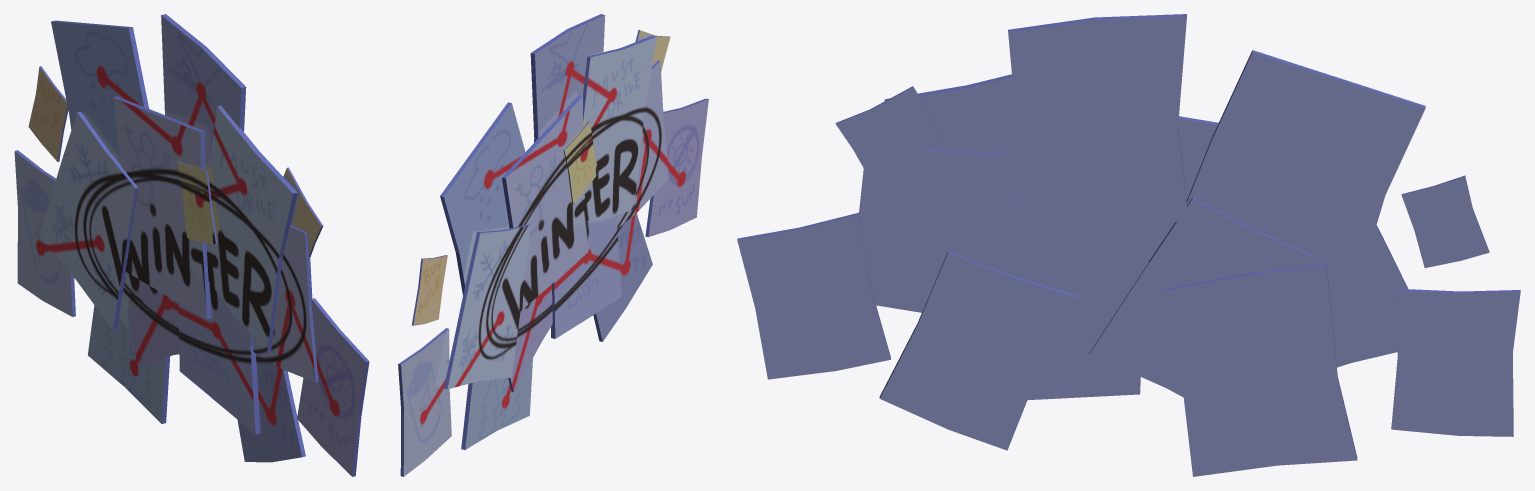
Rendered from cutscene_paper.fbx.
3 views of the same model, side by side, from view 1: azimuth 30°, elevation 25°; view 2: azimuth 150°, elevation 25°; view 3: azimuth 270°, elevation 25° (orthographic). The views are drawn at different scales.
Parts seen in each view (by area): view 1: Plane.003, Plane.001, Plane.006, Plane, Plane.011, Plane.008, Plane.002, Plane.010, Plane.004, Plane.009, Plane.005, Plane.007 (+3 smaller); view 2: Plane.001, Plane.003, Plane.006, Plane, Plane.010, Plane.008, Plane.011, Plane.002, Plane.009, Plane.004, Plane.005, Plane.007 (+3 smaller); view 3: Plane.002, Plane, Plane.009, Plane.005, Plane.011, Plane.004, Plane.008, Plane.010, Plane.007, Plane.003, Plane.006, Plane.014 (+2 smaller).
Boxes of the visible parts, bbox=[...] form: Plane.003: bbox=[206, 105, 297, 352]; Plane.001: bbox=[112, 96, 211, 319]; Plane.006: bbox=[39, 111, 138, 329]; Plane: bbox=[51, 20, 148, 164]; Plane.011: bbox=[297, 298, 369, 476]; Plane.008: bbox=[178, 283, 260, 434]; Plane.002: bbox=[161, 14, 246, 170]; Plane.010: bbox=[14, 150, 75, 316]; Plane.004: bbox=[253, 225, 318, 382]; Plane.009: bbox=[88, 290, 170, 423]; Plane.005: bbox=[237, 353, 305, 462]; Plane.007: bbox=[123, 272, 179, 366]; Plane.001: bbox=[502, 95, 588, 310]; Plane.003: bbox=[582, 35, 656, 220]; Plane.006: bbox=[444, 224, 531, 389]; Plane: bbox=[440, 102, 525, 294]; Plane.010: bbox=[398, 328, 451, 476]; Plane.008: bbox=[551, 214, 621, 338]; Plane.011: bbox=[645, 98, 708, 237]; Plane.002: bbox=[530, 14, 605, 142]; Plane.009: bbox=[461, 358, 532, 449]; Plane.004: bbox=[617, 60, 669, 228]; Plane.005: bbox=[593, 213, 652, 341]; Plane.007: bbox=[508, 284, 552, 392]; Plane.002: bbox=[1008, 14, 1188, 222]; Plane: bbox=[1186, 50, 1425, 303]; Plane.009: bbox=[1163, 264, 1357, 476]; Plane.005: bbox=[879, 251, 1078, 450]; Plane.011: bbox=[737, 212, 890, 379]; Plane.004: bbox=[859, 148, 1005, 312]; Plane.008: bbox=[998, 198, 1152, 400]; Plane.010: bbox=[1391, 288, 1520, 436]; Plane.007: bbox=[1089, 197, 1312, 397]; Plane.003: bbox=[884, 74, 1019, 198]; Plane.006: bbox=[1330, 225, 1408, 367]; Plane.014: bbox=[835, 86, 942, 176].
Size of the model in its own units: 8.09 by 171 by 264.
